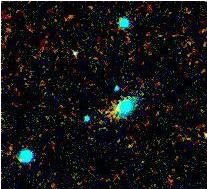star: (111, 128, 141, 158)
